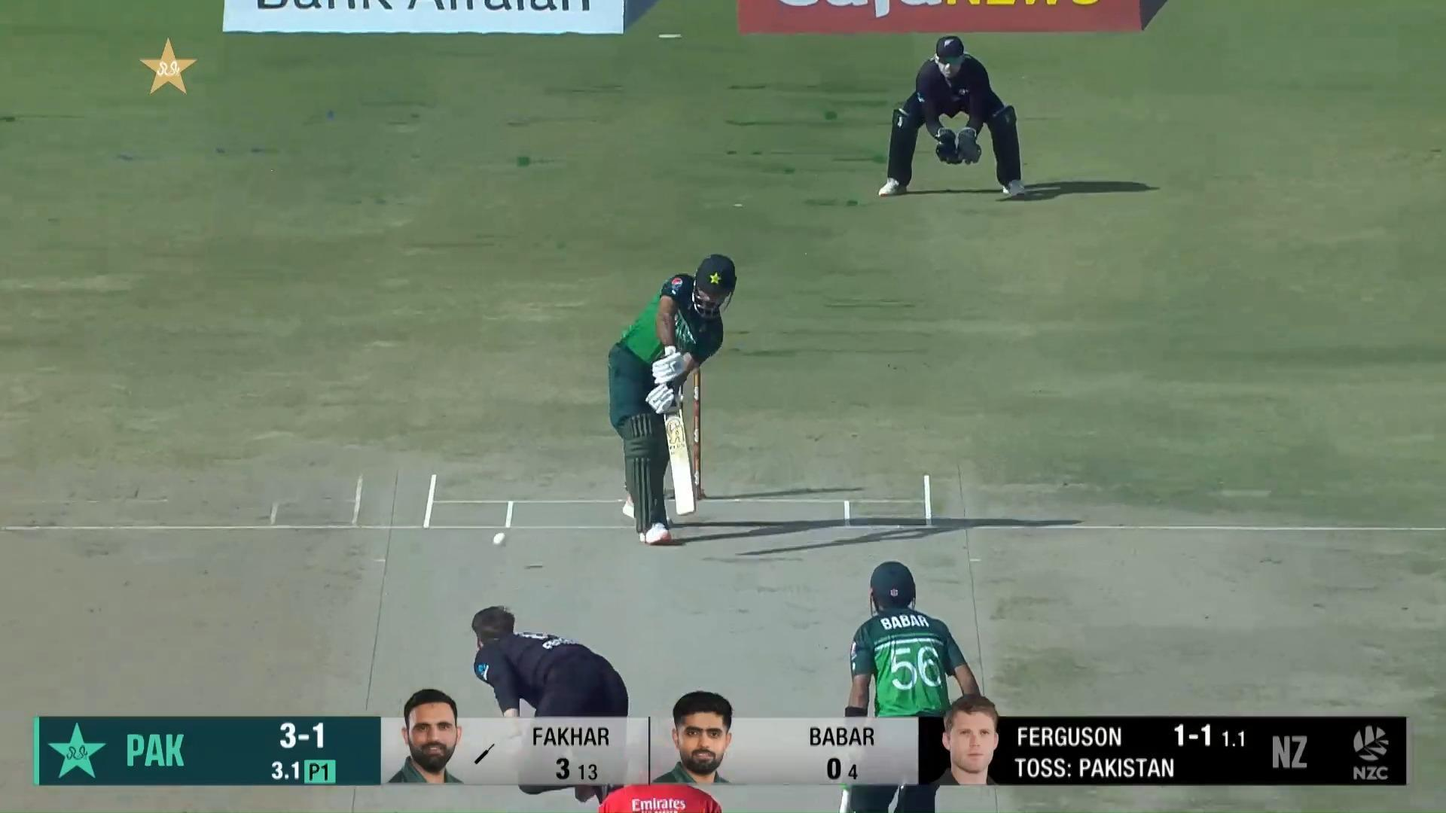BM 1: (608, 253, 737, 545)
BO: (471, 604, 629, 804)
